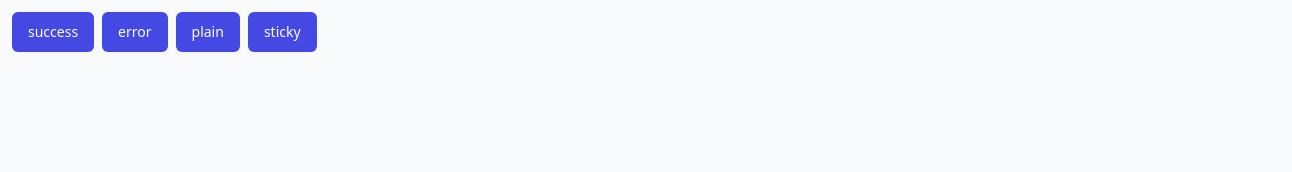
Test: Toast › toast.success creates a toast
Click the button "success" at (53, 32), box x1=12 y1=12 x2=94 y2=52
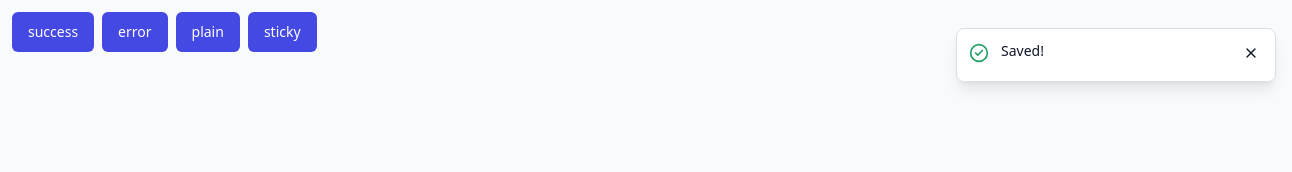
Now the text "Saved!" is shown, box x1=1001 y1=41 x2=1044 y2=60
